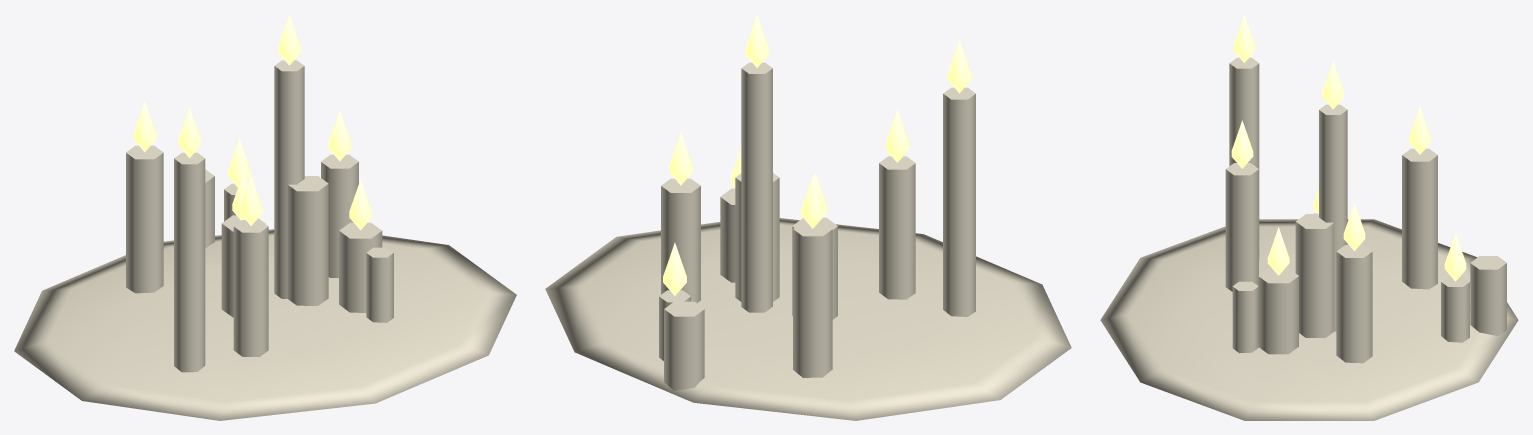
File: cr_candles.glb
3 views of the same model, side by side, from view 1: azimuth 30°, elevation 25°; view 2: azimuth 150°, elevation 25°; view 3: azimuth 270°, elevation 25° (orthographic). The views are drawn at different scales.
Visible parts, largest first — view 1: cr_candles; view 2: cr_candles; view 3: cr_candles.
Part boxes in pixels (x1,y1,x2,y2): cr_candles: (14, 14, 516, 420); cr_candles: (545, 14, 1071, 420); cr_candles: (1100, 14, 1518, 420).
Bounding box in the file's own units: 1.14 × 0.7596 × 1.
